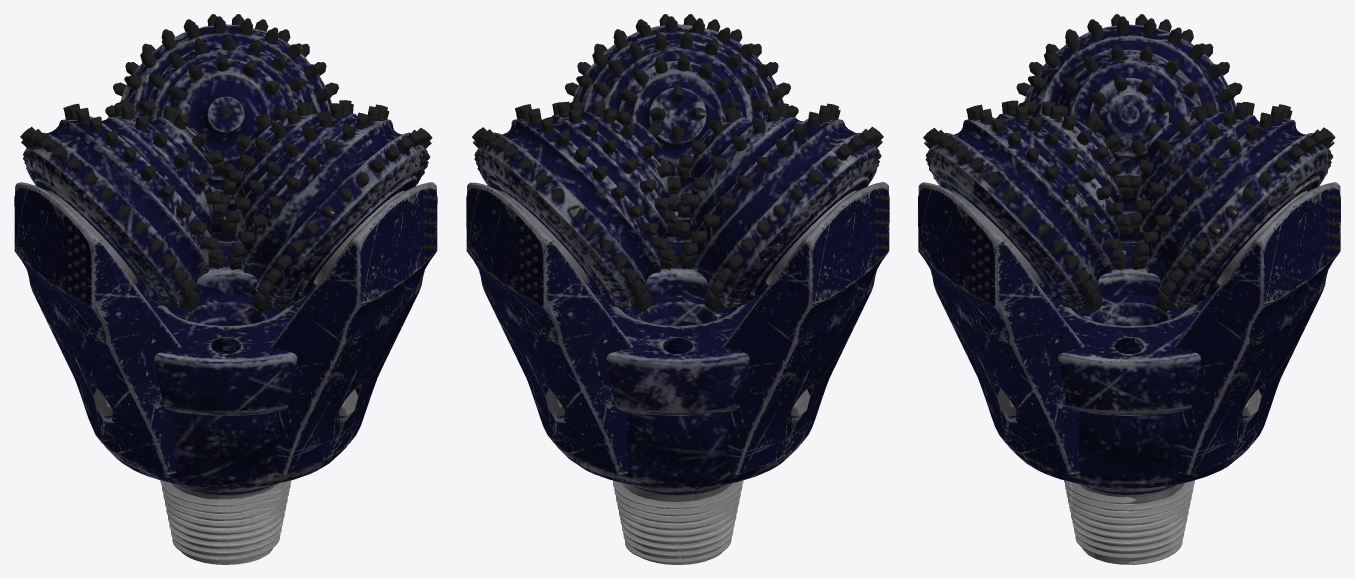
The model's file is drill-bit.glb.
3 renders of one model, left to right at view 1: azimuth 30°, elevation 25°; view 2: azimuth 150°, elevation 25°; view 3: azimuth 270°, elevation 25°, orthographic.
Visible parts, largest first — view 1: defaultMaterial; view 2: defaultMaterial; view 3: defaultMaterial.
Part boxes in pixels (x1,y1,x2,y2): defaultMaterial: (14,14,437,564); defaultMaterial: (466,14,889,564); defaultMaterial: (918,14,1340,564).
Bounding box in the file's own units: 0.389 × 0.5089 × 0.4219.
1 material, 1 textured.
